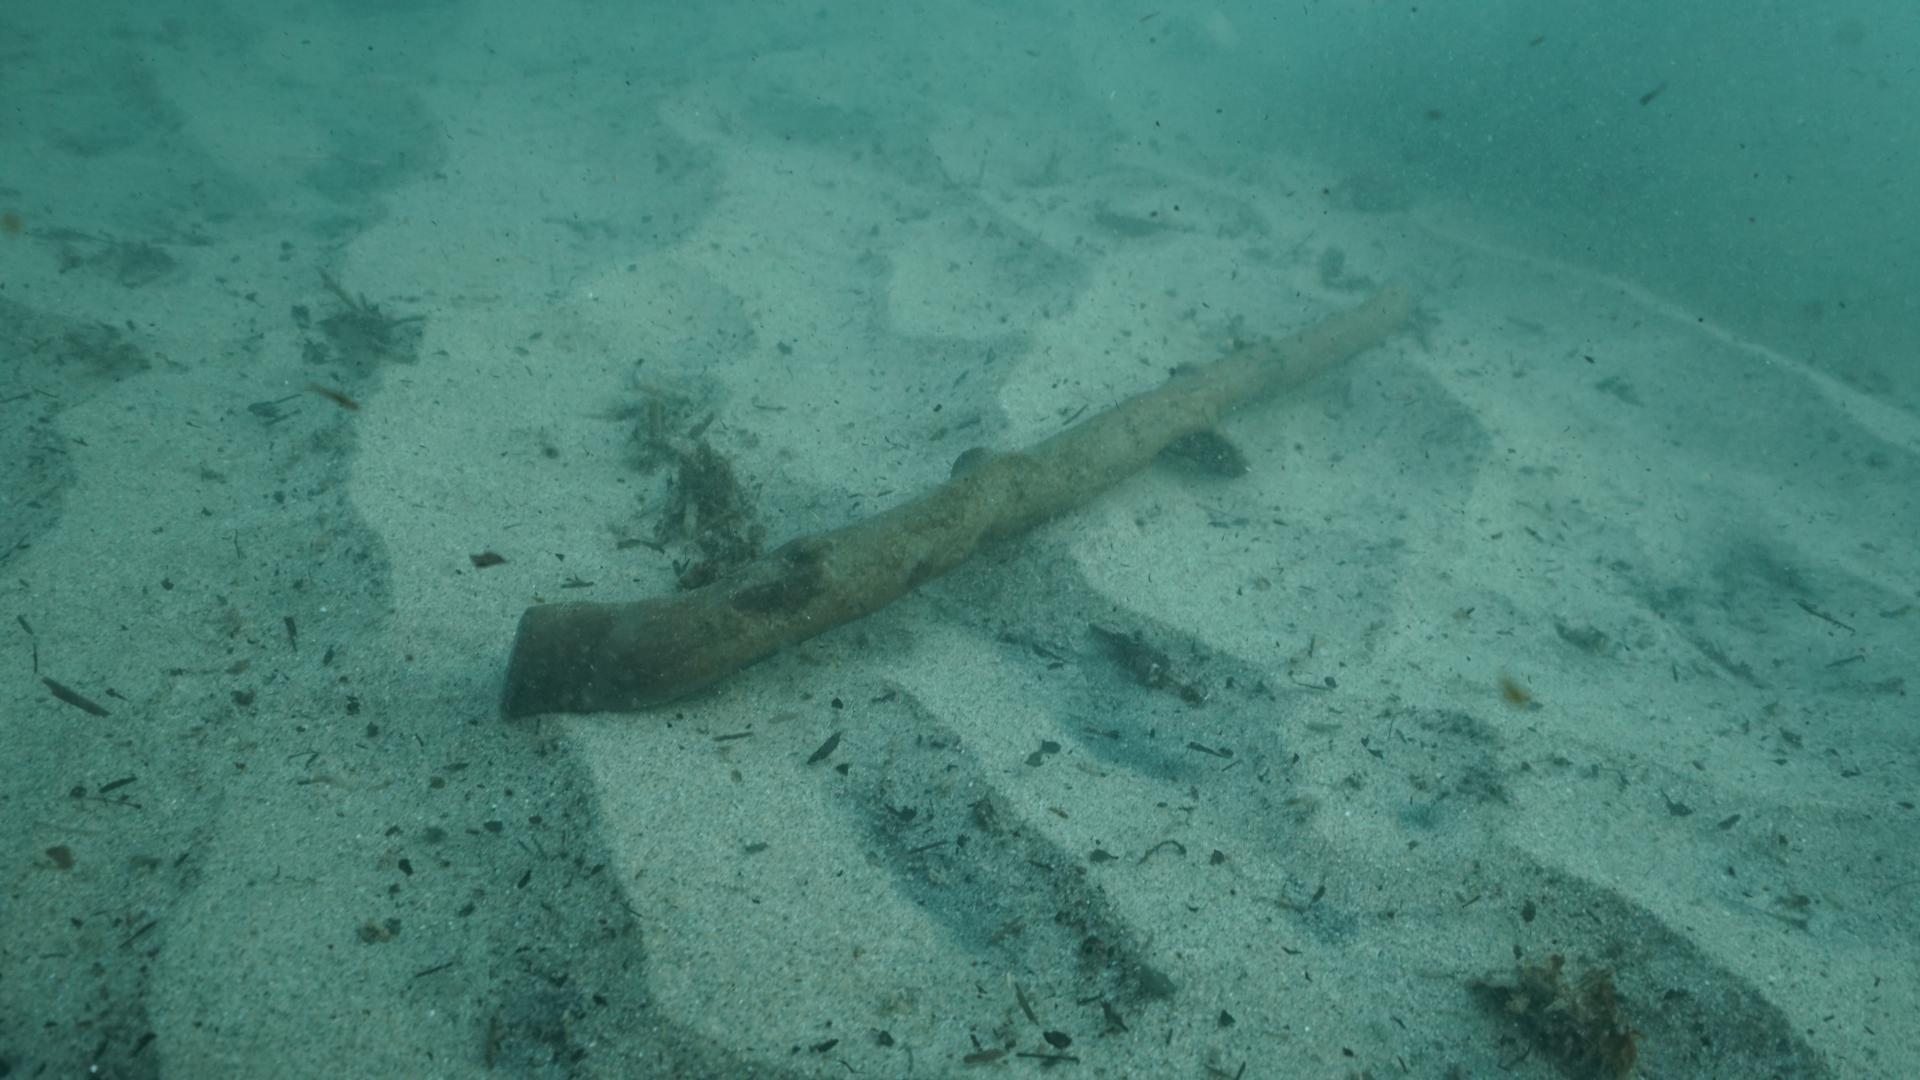wood: (501, 284, 1415, 717)
